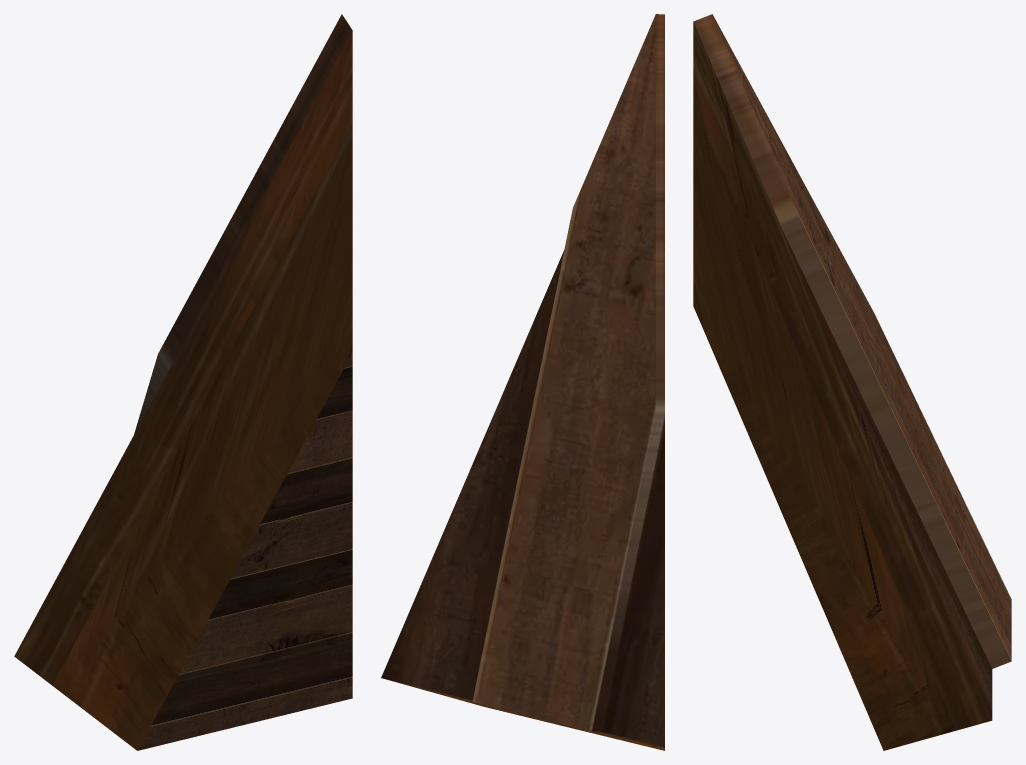
The picture shows the model from 3 angles, left to right: view 1: azimuth 30°, elevation 25°; view 2: azimuth 150°, elevation 25°; view 3: azimuth 270°, elevation 25°; orthographic projection. The views are drawn at different scales.
Visible parts, largest first — view 1: SM_BB_T2_Roof_Triangle_Steep_Med_Inverted_LOD0; view 2: SM_BB_T2_Roof_Triangle_Steep_Med_Inverted_LOD0; view 3: SM_BB_T2_Roof_Triangle_Steep_Med_Inverted_LOD0.
Boxes of the visible parts, left/top/right/bottom form: SM_BB_T2_Roof_Triangle_Steep_Med_Inverted_LOD0: left=14, top=14, right=352, bottom=750; SM_BB_T2_Roof_Triangle_Steep_Med_Inverted_LOD0: left=381, top=14, right=664, bottom=750; SM_BB_T2_Roof_Triangle_Steep_Med_Inverted_LOD0: left=693, top=14, right=1011, bottom=750.
Size of the model in its own units: 0.8247 by 1.82 by 0.7601.
2 materials, 2 textured.
